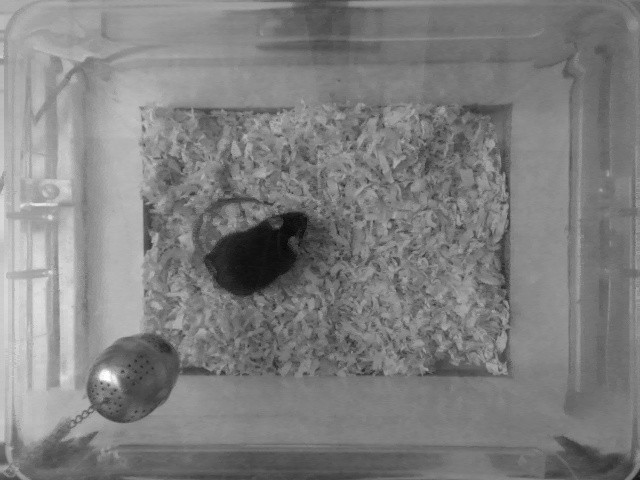mice: (189, 192, 312, 299)
